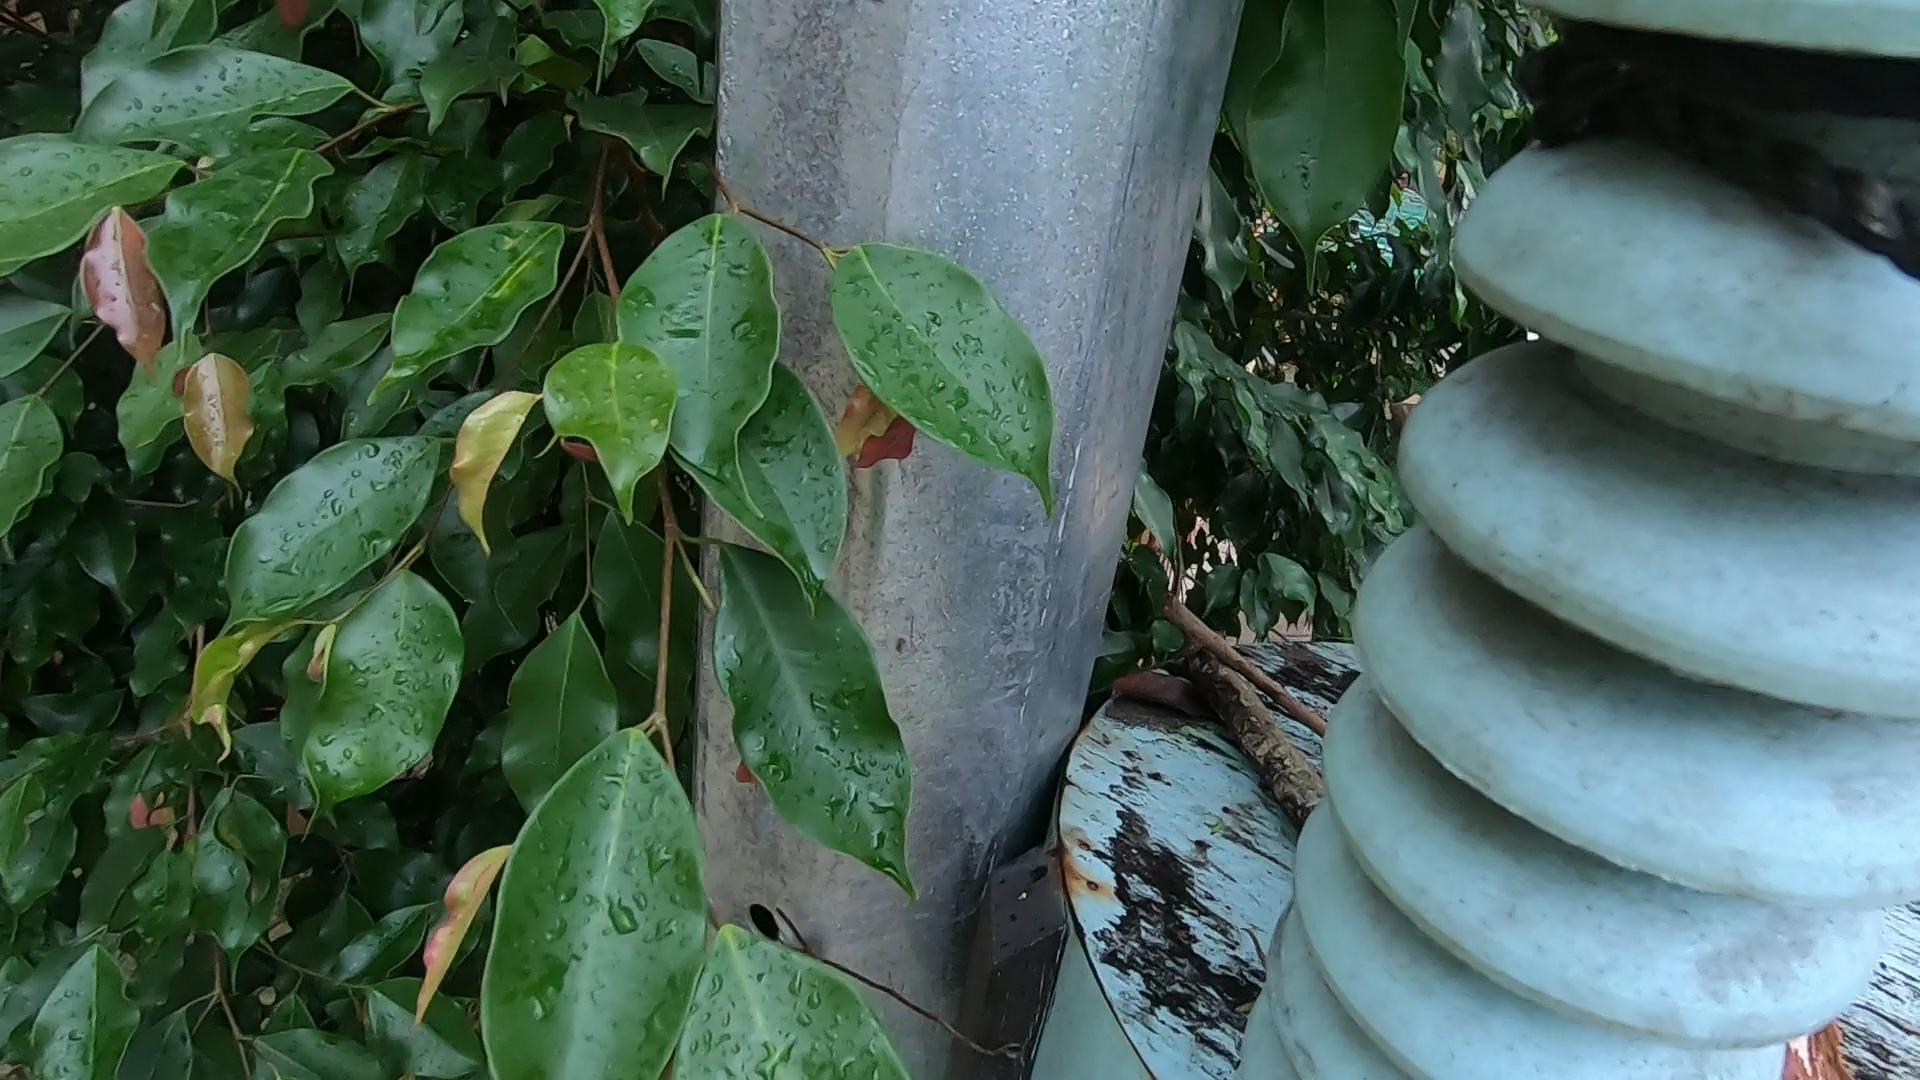tree branch: (1124, 634, 1364, 872), (1149, 585, 1328, 731)
